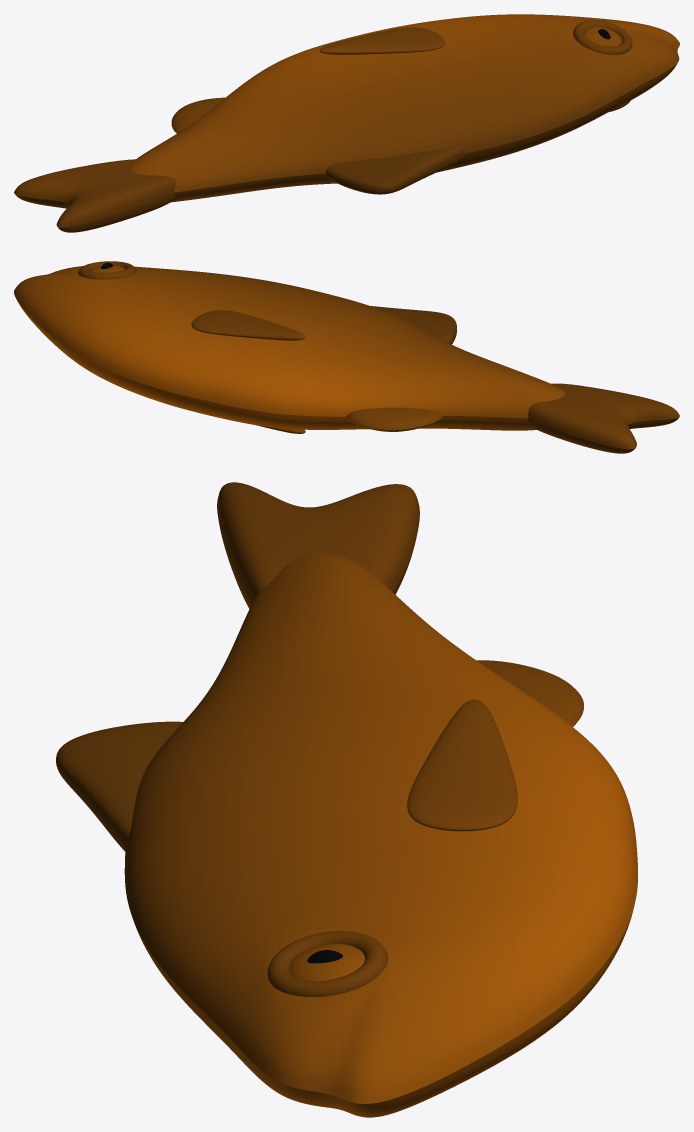
The model's file is HH_CookedFih.fbx.
3 views of the same model, one above another, from view 1: azimuth 30°, elevation 25°; view 2: azimuth 150°, elevation 25°; view 3: azimuth 270°, elevation 25° (orthographic). The views are drawn at different scales.
Visible parts, largest first — view 1: Top.001, Bottom.001; view 2: Top.001, Bottom.001; view 3: Top.001, Bottom.001.
Part boxes in pixels (left/top/right/bottom): Top.001: left=14, top=14, right=679, bottom=227; Bottom.001: left=14, top=63, right=677, bottom=232; Top.001: left=14, top=261, right=679, bottom=449; Bottom.001: left=17, top=301, right=678, bottom=453; Top.001: left=56, top=482, right=637, bottom=1103; Bottom.001: left=56, top=519, right=633, bottom=1117.
Size of the model in its own units: 99.77 by 14.96 by 39.95.
Materials: 2 (1 with a texture image).
